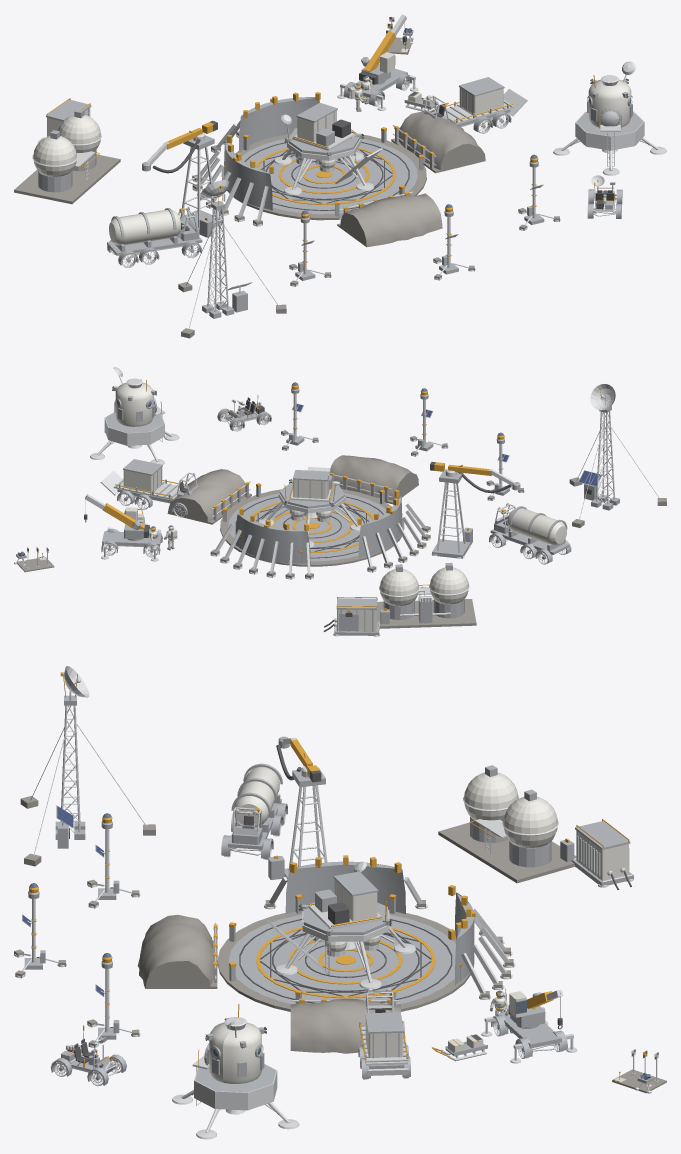
The model's file is landing-pad-operations-4285ca76.glb.
The picture shows the model from 3 angles, top to bottom: view 1: azimuth 30°, elevation 25°; view 2: azimuth 150°, elevation 25°; view 3: azimuth 270°, elevation 25°; orthographic projection. The views are drawn at different scales.
Parts seen in each view (by area): view 1: 000-landing-pad/1, 005-blast-berm-segment/0, 004-blast-berm-segment/0, 007-propellant-tank-farm/1, 006-crew-lander/1, 002-blast-deflector-wall/0, 001-cargo-lander/1, 013-cargo-hauler-tanker/19, 007-propellant-tank-farm/0, 019-comms-relay-mast/0, 013-cargo-hauler-tanker/0, 003-blast-deflector-wall/0 (+18 smaller); view 2: 000-landing-pad/1, 005-blast-berm-segment/0, 004-blast-berm-segment/0, 007-propellant-tank-farm/1, 002-blast-deflector-wall/0, 006-crew-lander/1, 007-propellant-tank-farm/2, 013-cargo-hauler-tanker/0, 003-blast-deflector-wall/0, 019-comms-relay-mast/0, 013-cargo-hauler-tanker/19, 006-crew-lander/2 (+23 smaller); view 3: 000-landing-pad/1, 005-blast-berm-segment/0, 007-propellant-tank-farm/1, 004-blast-berm-segment/0, 003-blast-deflector-wall/0, 006-crew-lander/1, 001-cargo-lander/1, 000-landing-pad/0, 007-propellant-tank-farm/0, 006-crew-lander/2, 013-cargo-hauler-tanker/0, 001-cargo-lander/0 (+20 smaller).
Part boxes in pixels (x1,y1,x2,y2): 000-landing-pad/1: [224, 130, 423, 216]; 005-blast-berm-segment/0: [337, 193, 442, 247]; 004-blast-berm-segment/0: [391, 111, 485, 173]; 007-propellant-tank-farm/1: [33, 114, 100, 176]; 006-crew-lander/1: [553, 61, 666, 175]; 002-blast-deflector-wall/0: [238, 97, 319, 152]; 001-cargo-lander/1: [274, 114, 374, 195]; 013-cargo-hauler-tanker/19: [109, 209, 180, 245]; 007-propellant-tank-farm/0: [14, 154, 120, 204]; 019-comms-relay-mast/0: [186, 193, 279, 330]; 013-cargo-hauler-tanker/0: [107, 208, 202, 265]; 003-blast-deflector-wall/0: [224, 141, 272, 210]; 000-landing-pad/1: [223, 486, 401, 563]; 005-blast-berm-segment/0: [330, 455, 418, 504]; 004-blast-berm-segment/0: [167, 469, 251, 524]; 007-propellant-tank-farm/1: [379, 567, 468, 605]; 002-blast-deflector-wall/0: [235, 514, 310, 564]; 006-crew-lander/1: [90, 367, 179, 464]; 007-propellant-tank-farm/2: [380, 562, 464, 624]; 013-cargo-hauler-tanker/0: [489, 506, 571, 562]; 003-blast-deflector-wall/0: [358, 496, 402, 557]; 019-comms-relay-mast/0: [576, 398, 660, 520]; 013-cargo-hauler-tanker/19: [507, 508, 566, 545]; 006-crew-lander/2: [115, 382, 153, 426]; 000-landing-pad/1: [228, 898, 461, 1004]; 005-blast-berm-segment/0: [137, 914, 217, 988]; 007-propellant-tank-farm/1: [464, 772, 557, 847]; 004-blast-berm-segment/0: [290, 999, 400, 1053]; 003-blast-deflector-wall/0: [285, 861, 405, 914]; 006-crew-lander/1: [172, 1017, 299, 1139]; 001-cargo-lander/1: [275, 861, 415, 989]; 000-landing-pad/0: [217, 910, 470, 1011]; 007-propellant-tank-farm/0: [438, 822, 576, 883]; 006-crew-lander/2: [209, 1022, 261, 1083]; 013-cargo-hauler-tanker/0: [221, 763, 287, 858]; 001-cargo-lander/0: [301, 871, 390, 935].
Bounding box in the file's own units: 43.63 × 9.99 × 35.58.
